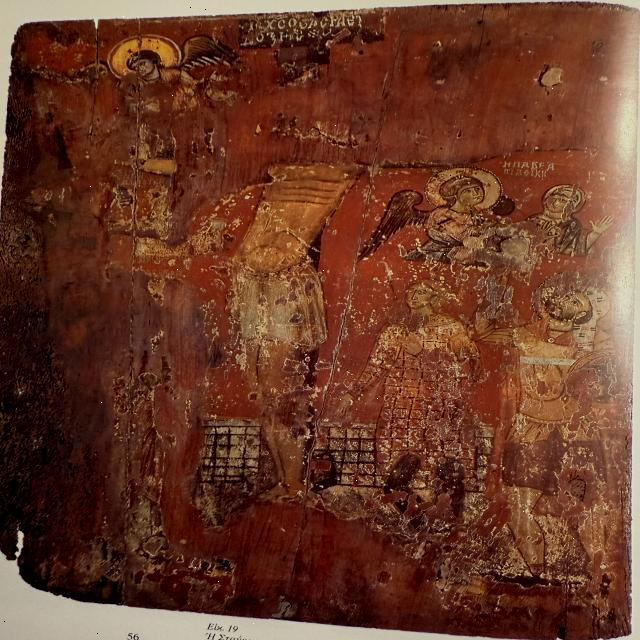angel: (357, 156, 527, 274), (65, 31, 249, 115)
aura: (426, 160, 511, 216), (109, 34, 184, 78)
wing: (347, 190, 437, 258), (181, 33, 241, 69), (491, 195, 525, 221), (71, 61, 109, 82)
